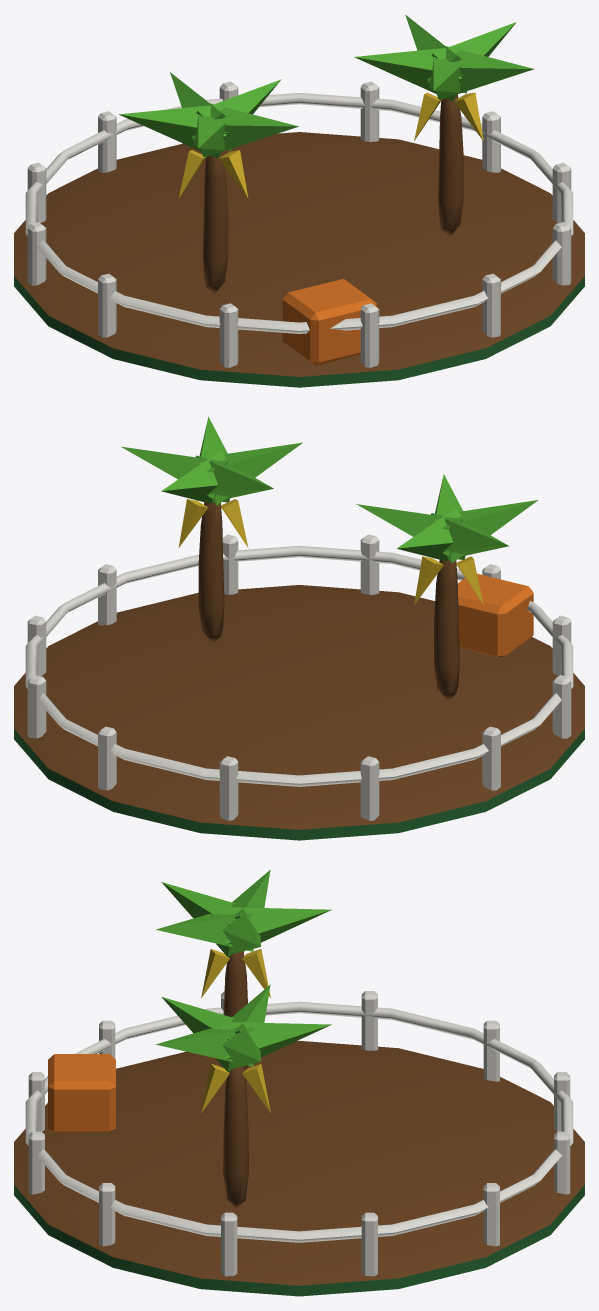
3 views of the same model, one above another, from view 1: azimuth 30°, elevation 25°; view 2: azimuth 150°, elevation 25°; view 3: azimuth 270°, elevation 25° (orthographic).
Parts seen in each view (by area): view 1: fazenda_0_base, fazenda_1_torreta; view 2: fazenda_0_base, fazenda_1_torreta; view 3: fazenda_0_base, fazenda_1_torreta.
Boxes of the visible parts, x1=… form: fazenda_0_base: x1=14, y1=81, x2=584, y2=387; fazenda_1_torreta: x1=118, y1=15, x2=534, y2=294; fazenda_0_base: x1=14, y1=534, x2=584, y2=840; fazenda_1_torreta: x1=121, y1=416, x2=538, y2=701; fazenda_0_base: x1=14, y1=991, x2=584, y2=1296; fazenda_1_torreta: x1=155, y1=870, x2=331, y2=1209.
Size of the model in its own units: 1.28 by 0.5151 by 1.26.
